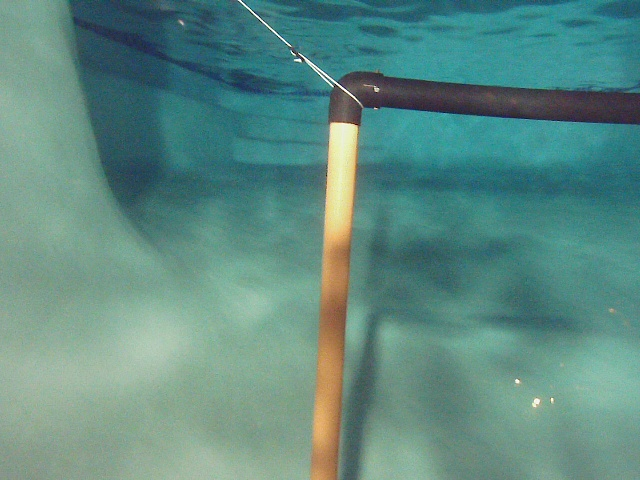Gate: (303, 61, 639, 479)
